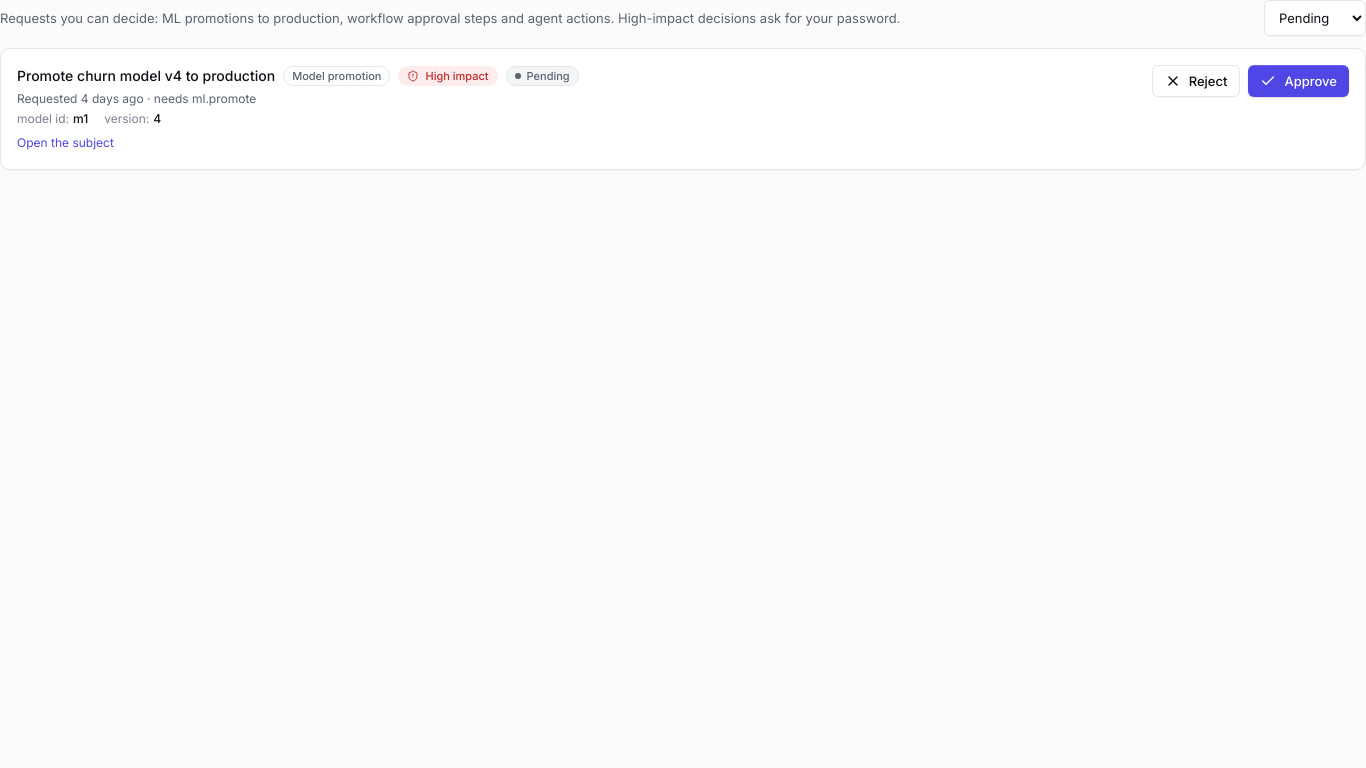
Test: ApprovalsInbox › requires the password for a high-impact decision and sends it with the decision
Later steps or results of the test are not shown.
Step 1. Click the button "Approve" → click(1299, 81), box [1248, 65, 1349, 97]
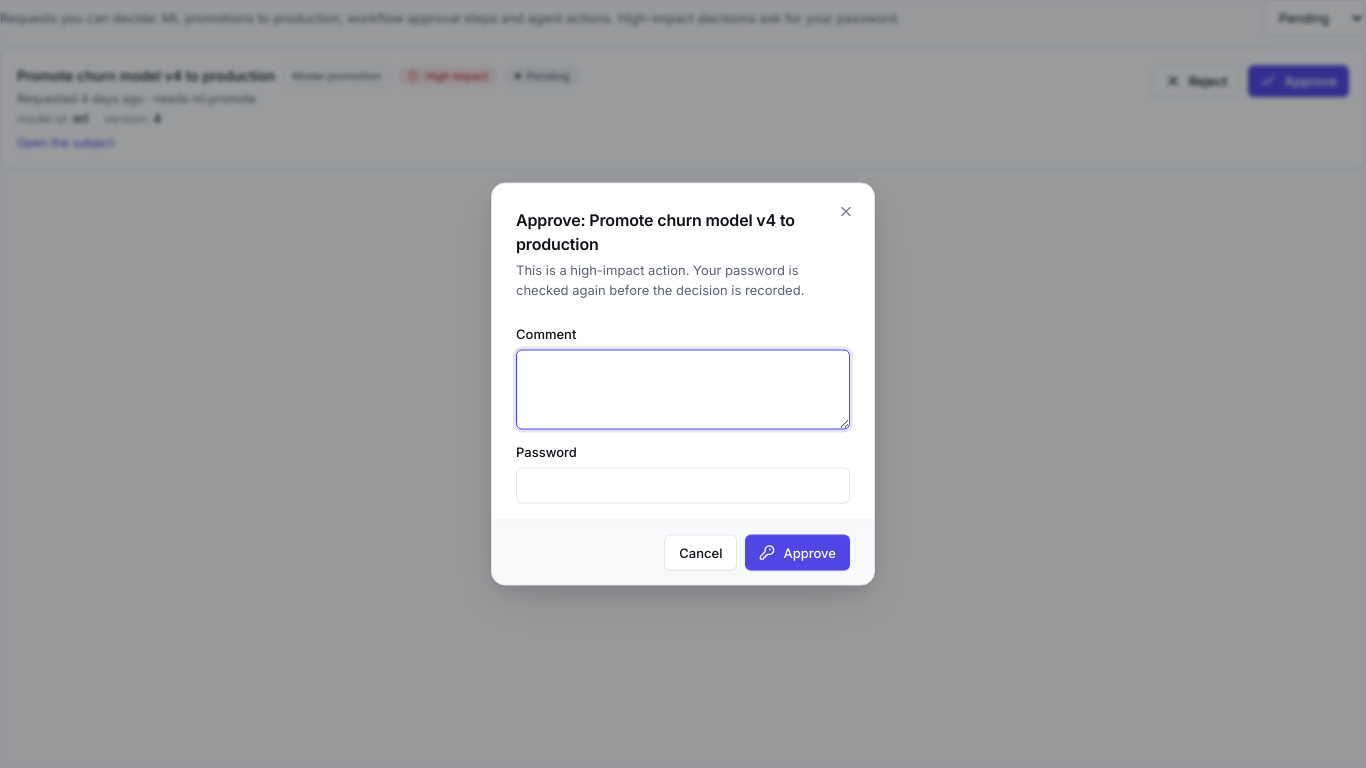
Step 2. Click the button "Approve" → click(798, 552), box [746, 534, 850, 570]
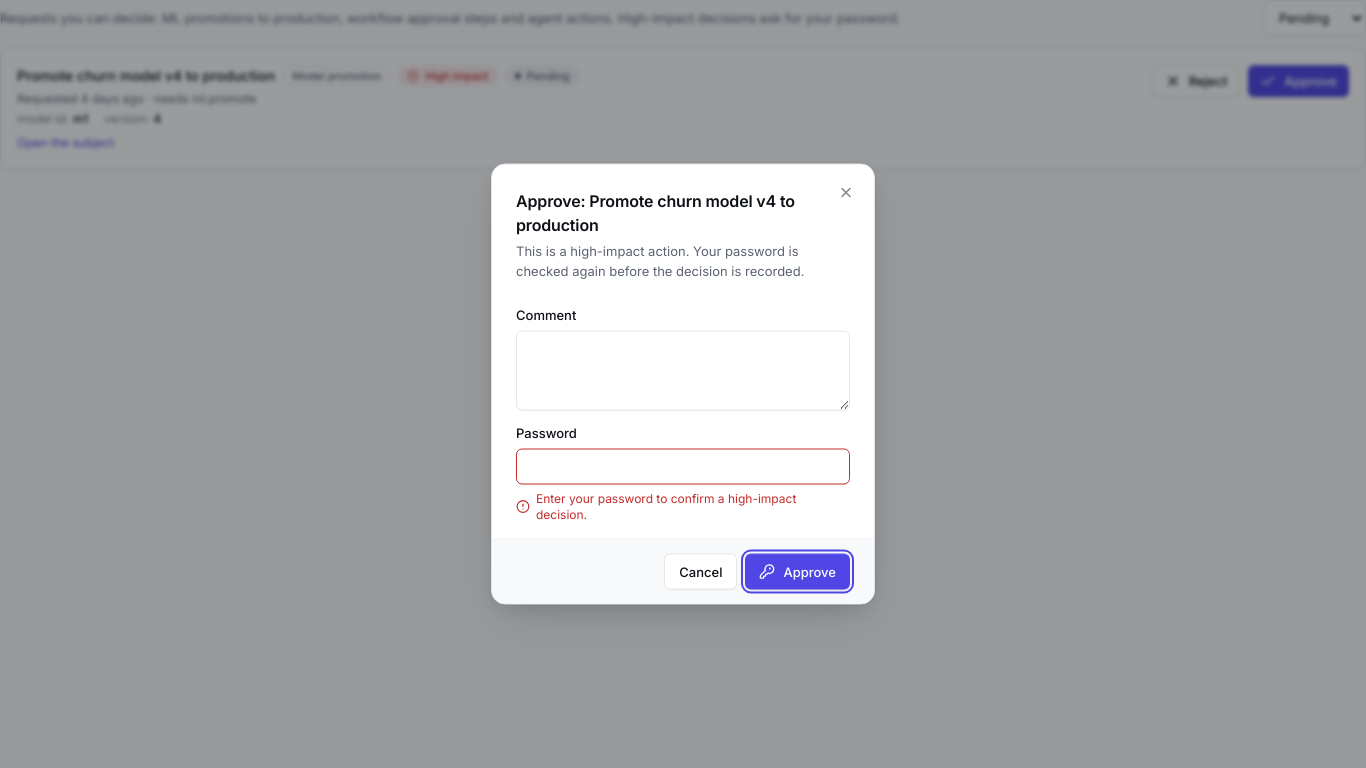
expect the text "Enter your password to confirm a high-impact decision." is shown: met, box [516, 490, 796, 522]
